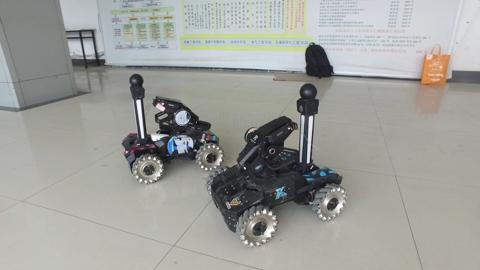chariot: (207, 72, 345, 253), (111, 71, 224, 185)
